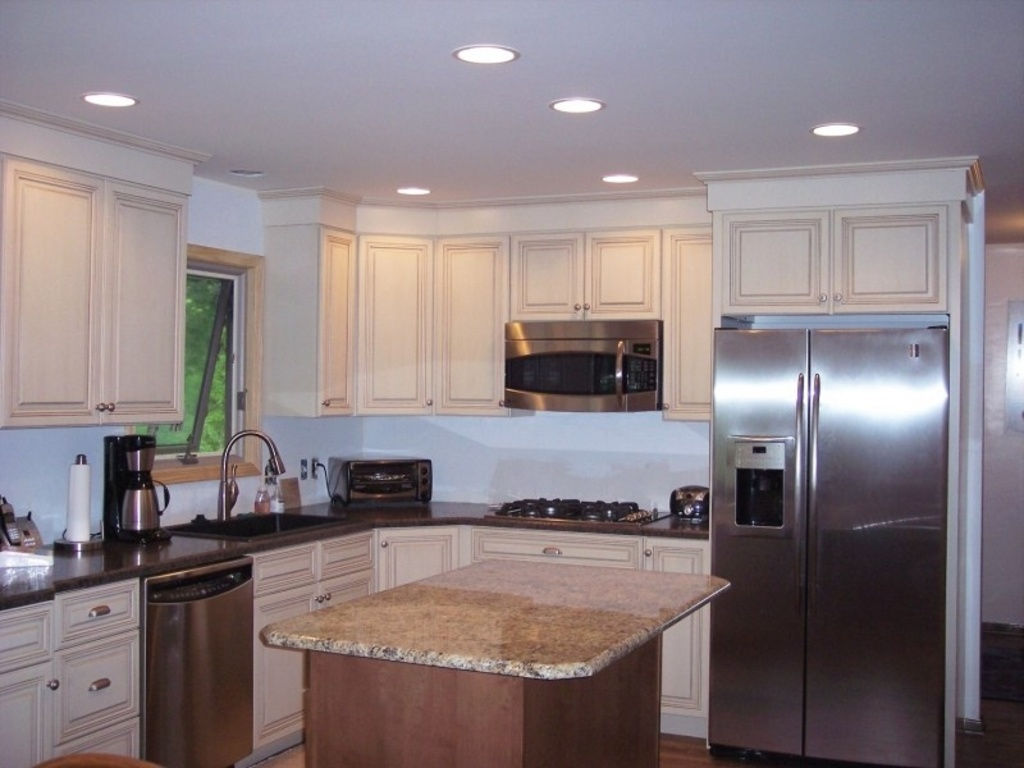cabinet door: (25, 173, 94, 414), (110, 193, 175, 421), (441, 252, 498, 402), (370, 251, 422, 407), (734, 224, 830, 306), (838, 225, 937, 302), (667, 246, 710, 407), (67, 653, 140, 716), (319, 243, 344, 414), (482, 534, 643, 560), (514, 243, 580, 306), (589, 240, 647, 306), (9, 682, 55, 749), (75, 594, 130, 626)
handle: (806, 389, 822, 589), (792, 383, 802, 594), (87, 672, 114, 693), (89, 603, 109, 622)
refrigerator door: (808, 337, 938, 765), (719, 331, 801, 758)
